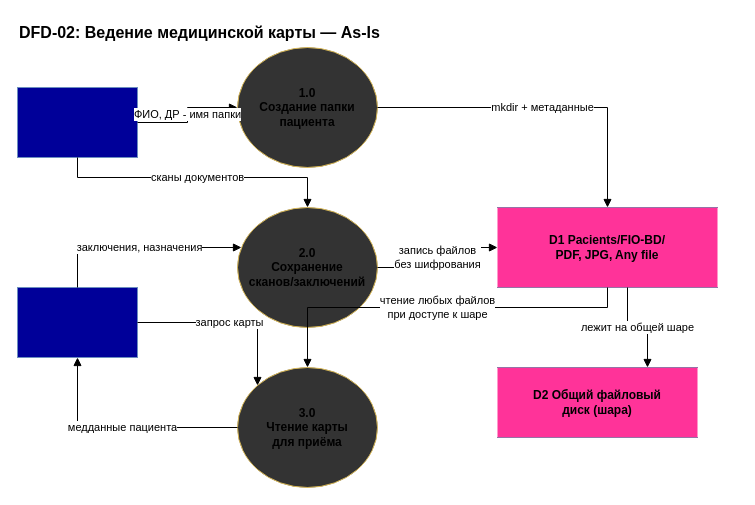
Some shapes in this 755 by 505 pixel diagram are drawn without their labels. Here are the shapes that lost their labels. From the top down, the centre of each, then its label:
the point at 77,122: Сотрудник ресепшена
the point at 77,322: Специалист- медик
